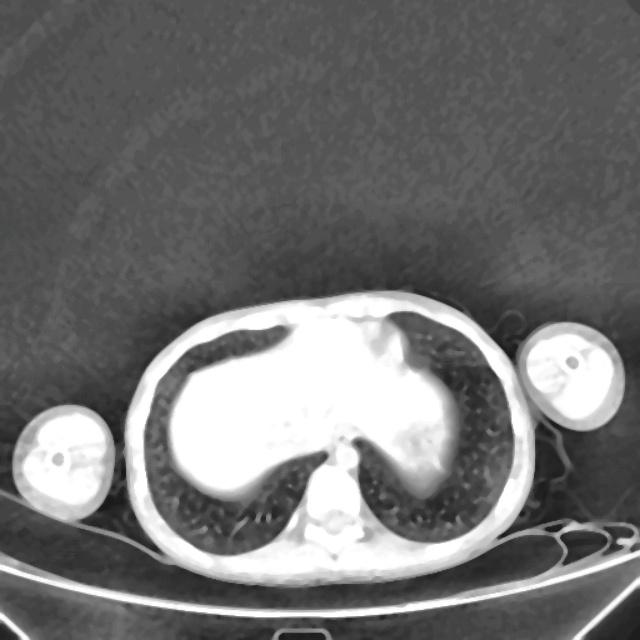covid: (121, 287, 538, 588)
